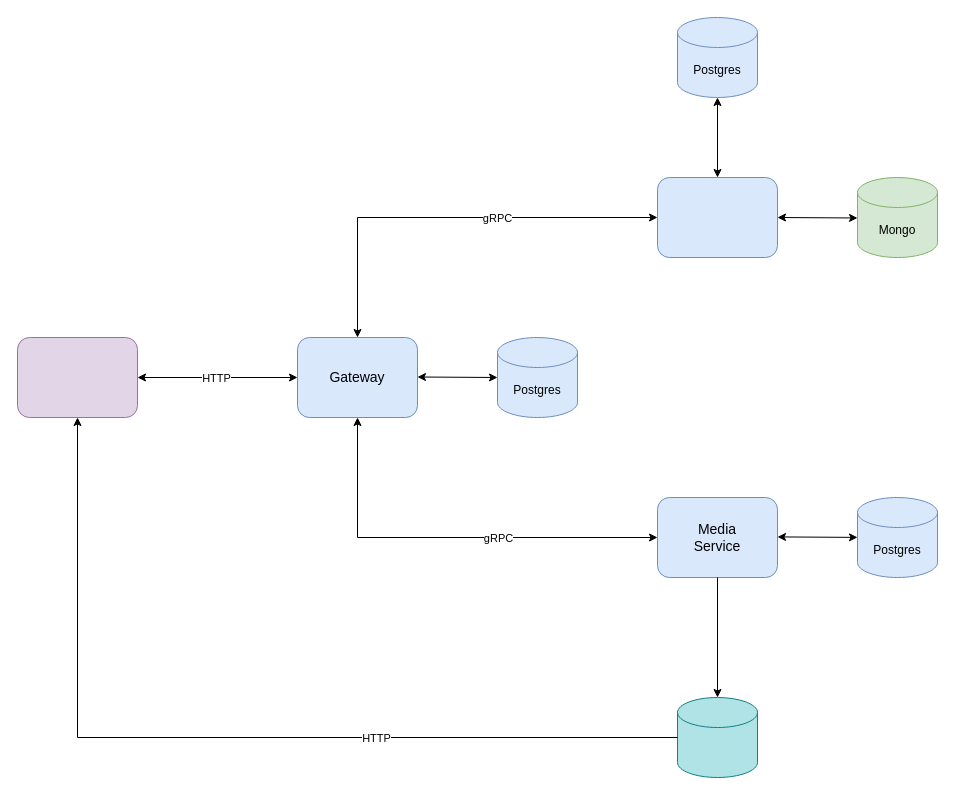
This 955x795 diagram has some shape labels left out. The shapes that lost their labels are listed below. From the top down, each one's box as (x1, y1, x2, y2) in pixels, then its label:
(656, 176, 778, 258): Boards Service
(16, 336, 138, 418): Web
(676, 696, 758, 778): S3
